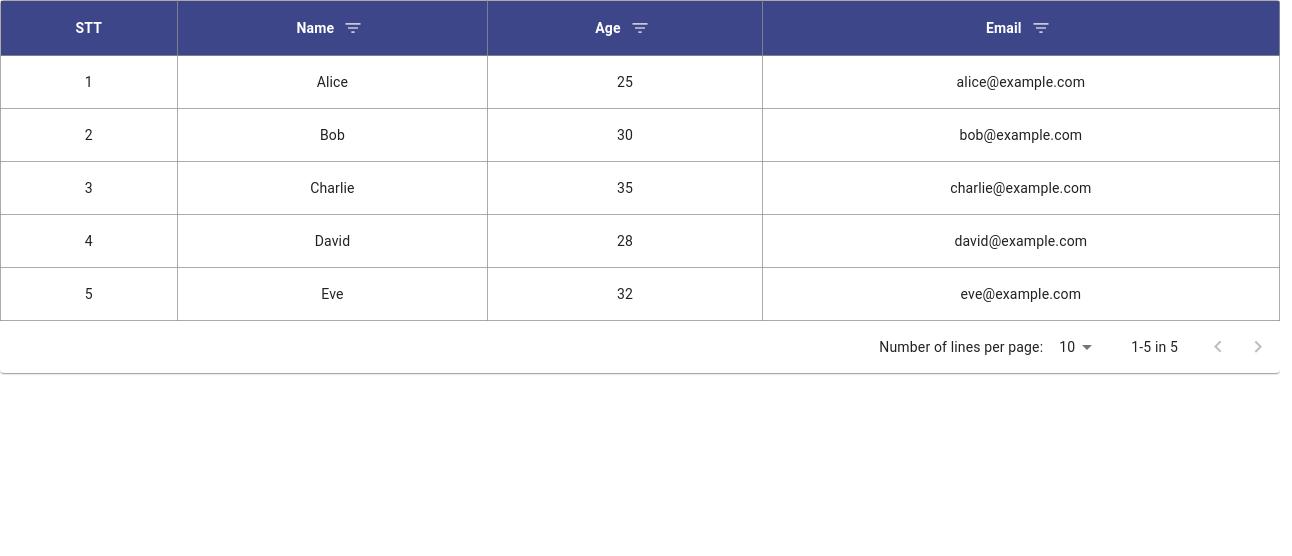
Scenario: DataTable Component - Unit Tests › Happy Path - Sorting › should open filter popover when filter icon clicked
Click the button without text next to "Name" at (353, 28), box [338,13,368,43]
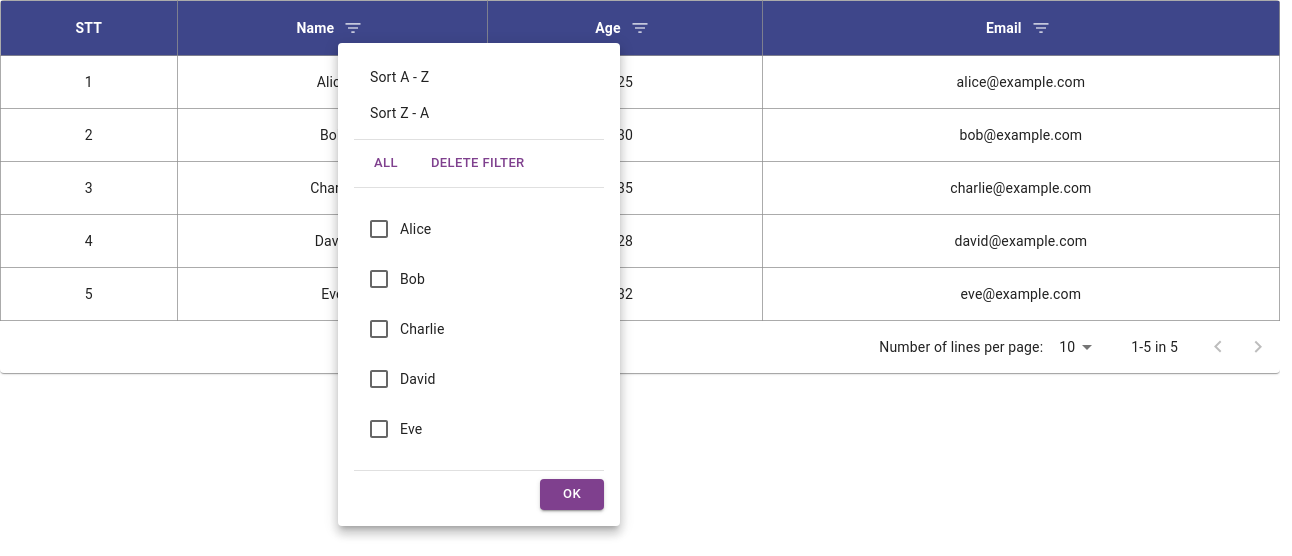
Now the text "Sort A - Z" is shown, box [370,69,429,85]
Now the text "Sort Z - A" is shown, box [370,105,429,121]
